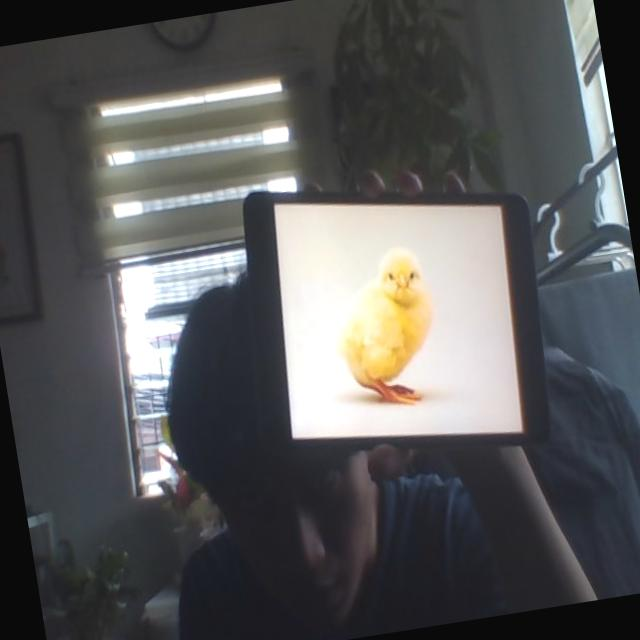Healthy: (326, 248, 441, 410)
